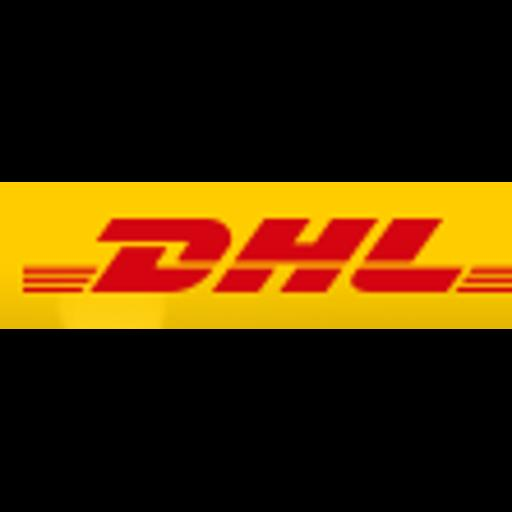DHL: (0, 182, 512, 329)
